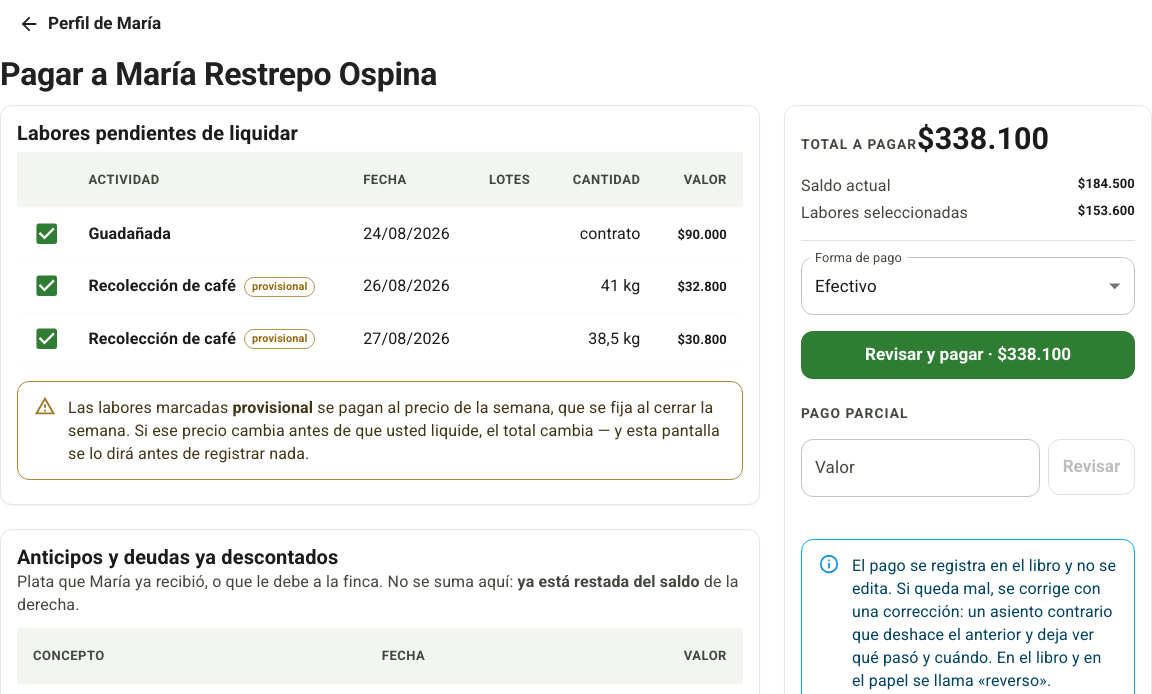
closing dialogs with Escape › closes the receipt
Click the button "Revisar y pagar · $338.100" at (968, 355), box [801,331,1135,379]
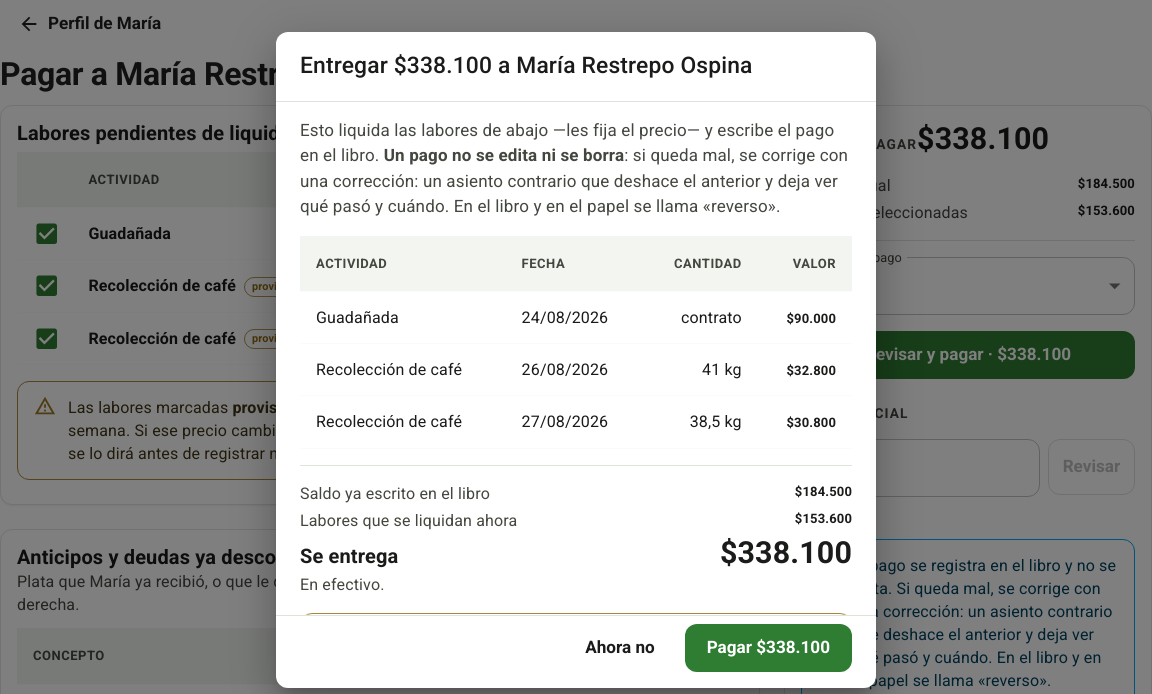
Click the button "Pagar $338.100" at (768, 648), box [685,624,852,672]
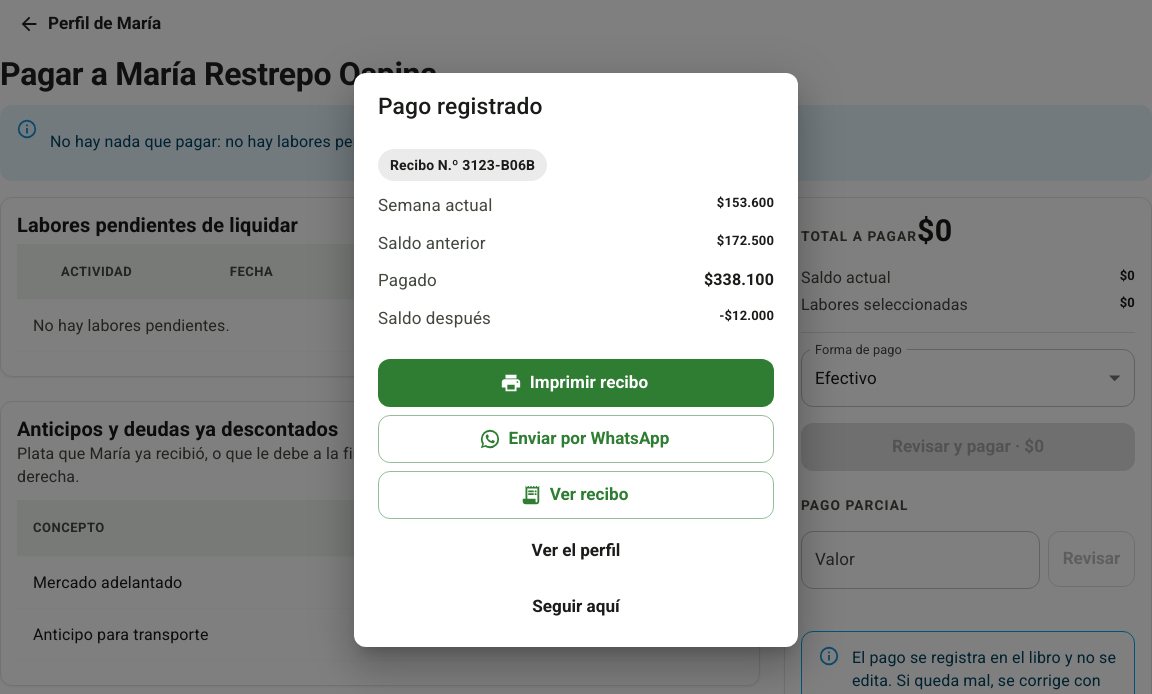
Press Escape
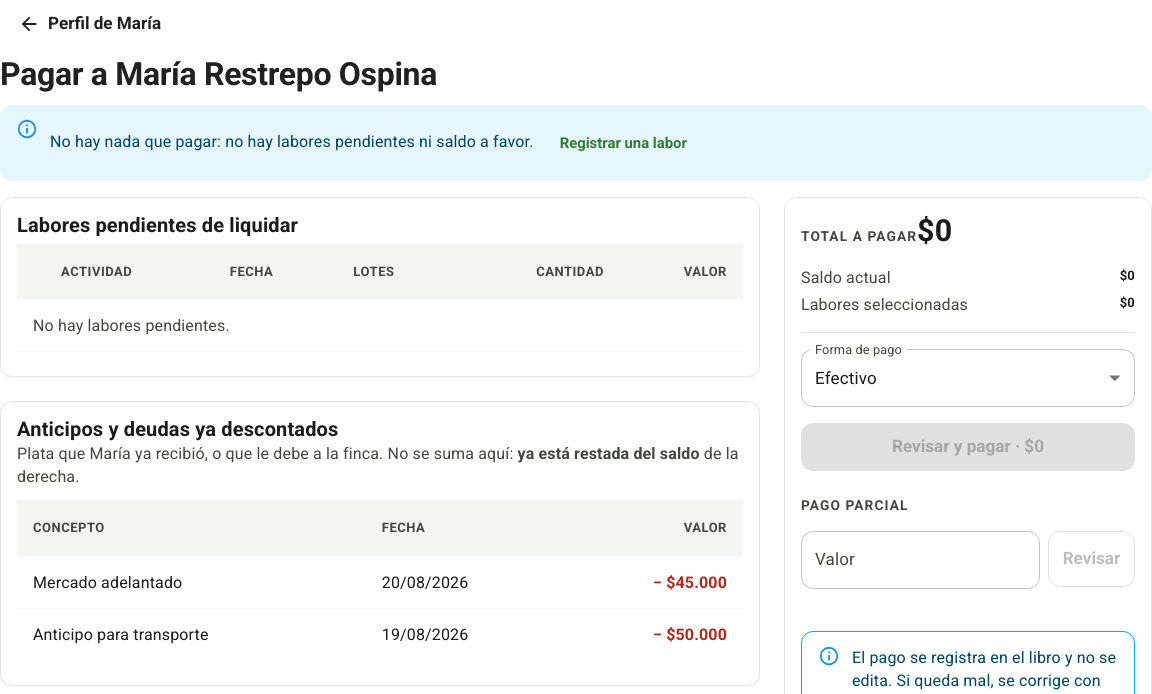
expect the heading "Pago registrado" is gone: met
